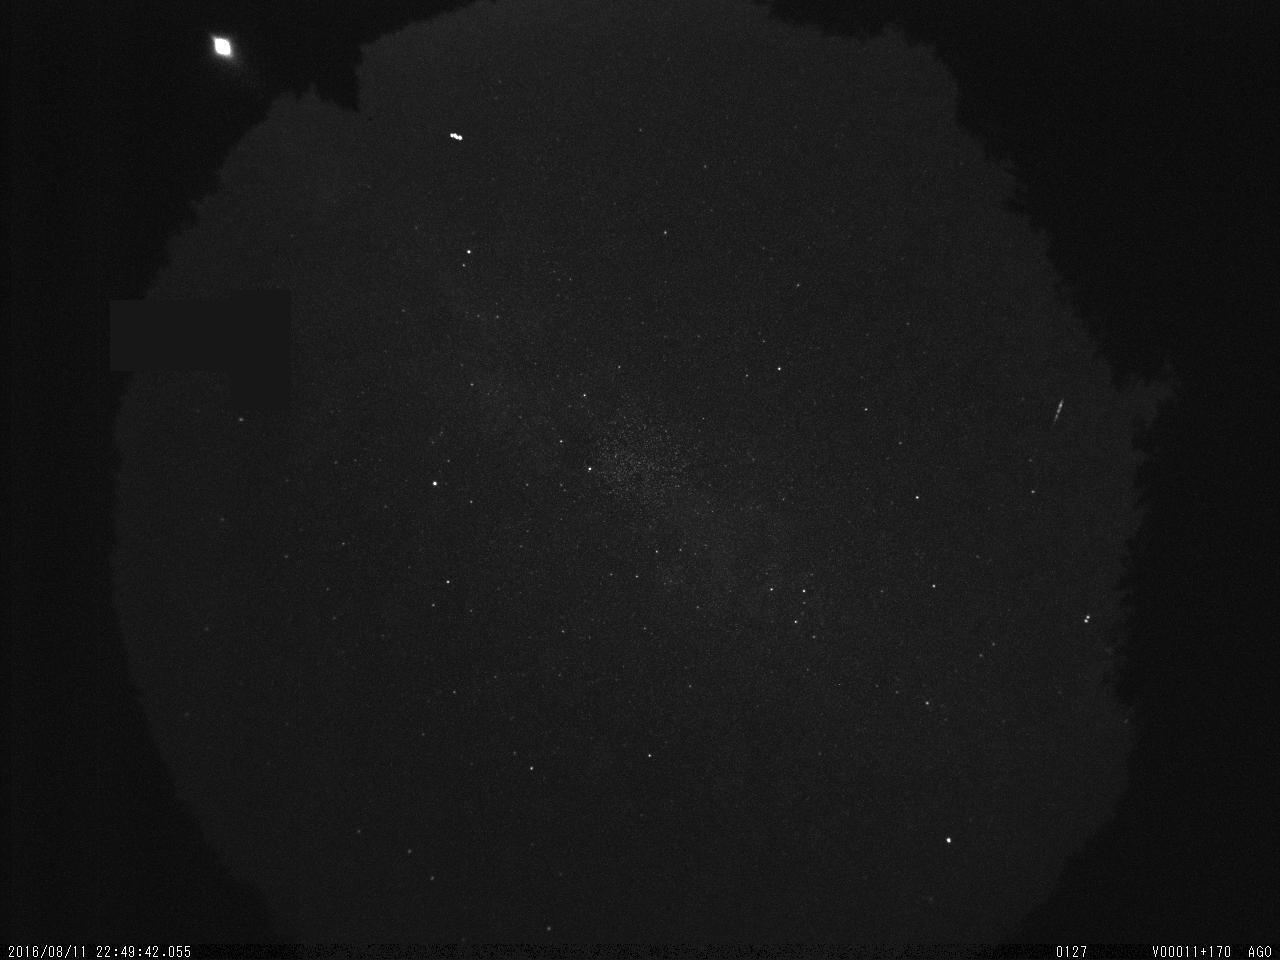Meteor: (1045, 389, 1074, 438)
